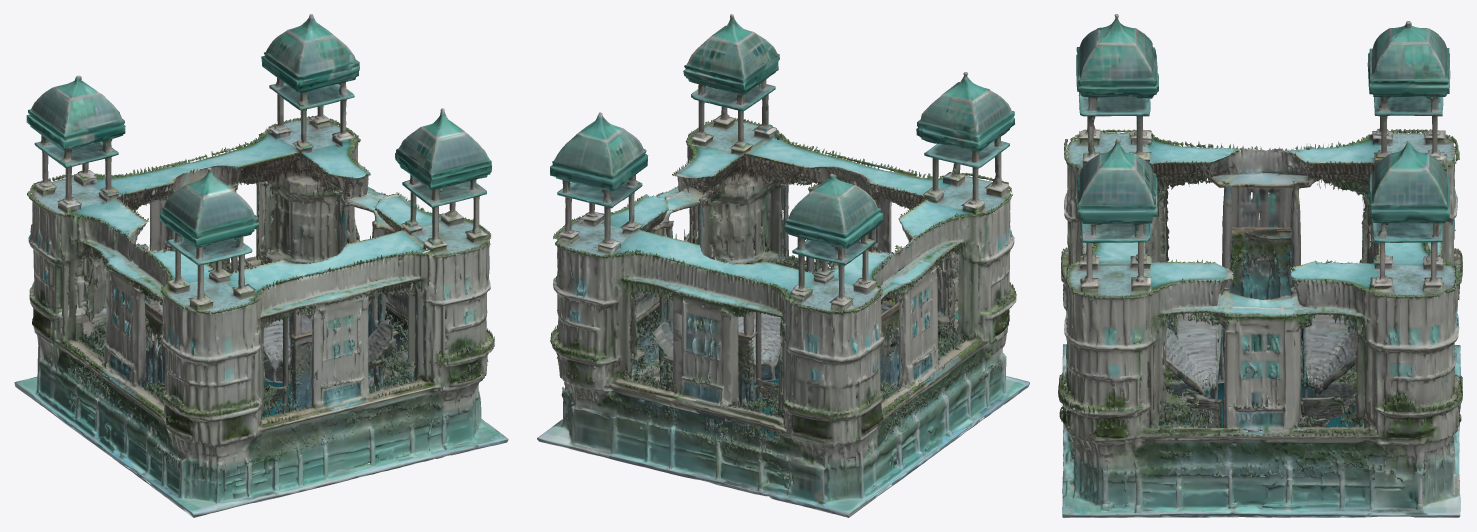
File: Meshy_AI_Temple_Oasis_0222001128_texture.glb
3 renders of one model, left to right at view 1: azimuth 30°, elevation 25°; view 2: azimuth 150°, elevation 25°; view 3: azimuth 270°, elevation 25°, orthographic. The views are drawn at different scales.
Bounding box in the file's own units: 1.97 × 1.95 × 1.99.
1 material, 1 textured.
